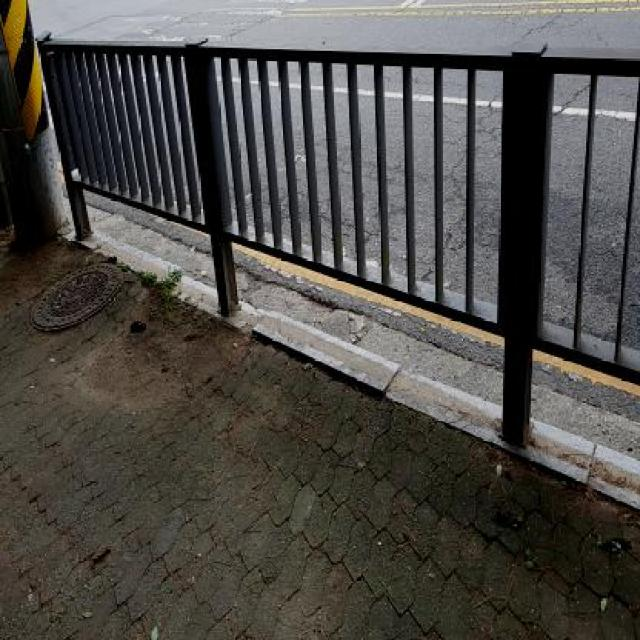fence: (26, 0, 640, 478)
